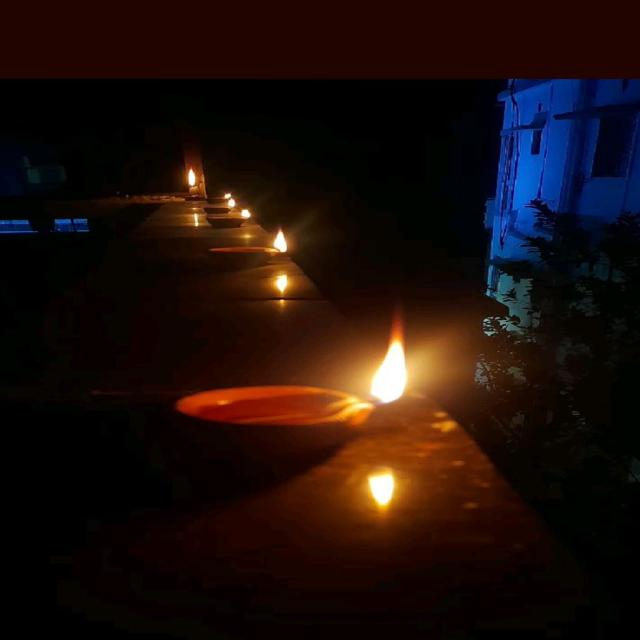fire: (368, 338, 408, 403)
